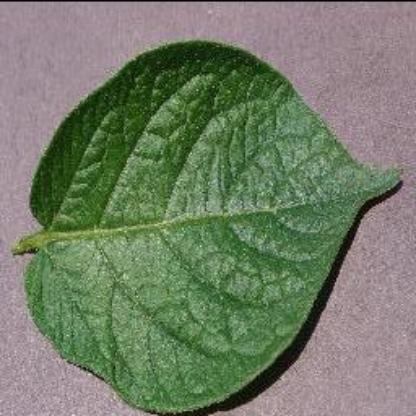Healthy-plant: (11, 23, 406, 413)
